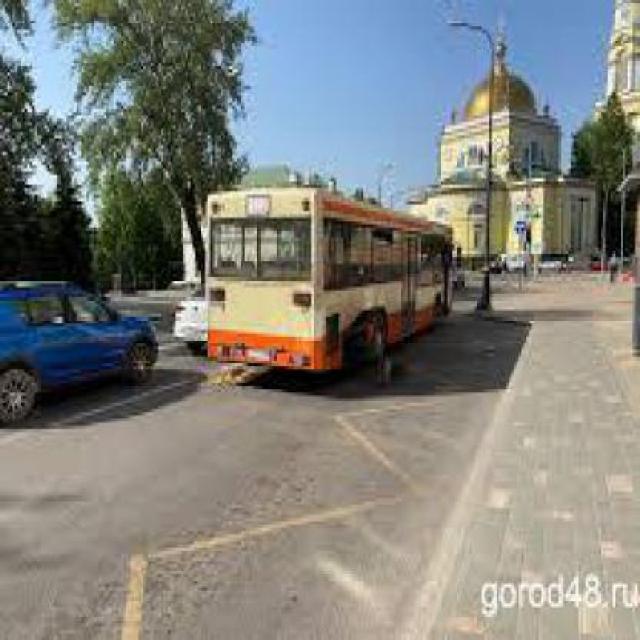bus: (202, 182, 453, 378)
car: (0, 281, 158, 427)
